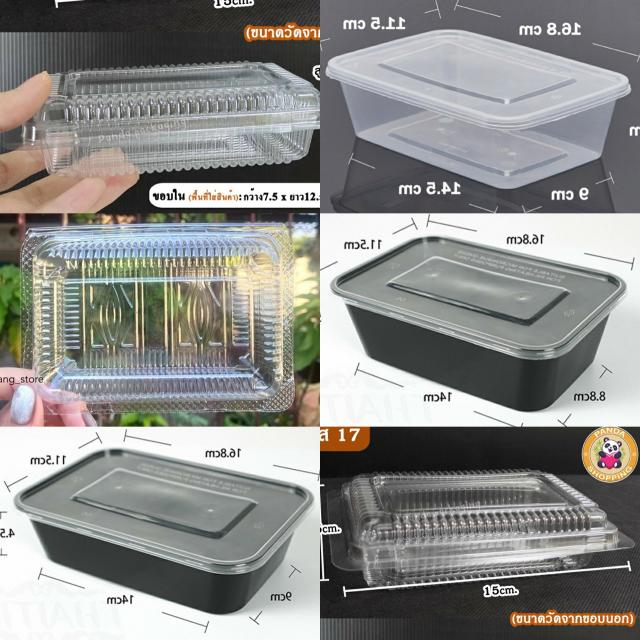Single-Use-Plastic: (330, 236, 625, 411), (21, 224, 293, 412), (15, 449, 313, 614), (327, 30, 630, 189), (5, 62, 319, 177), (327, 470, 633, 586)
